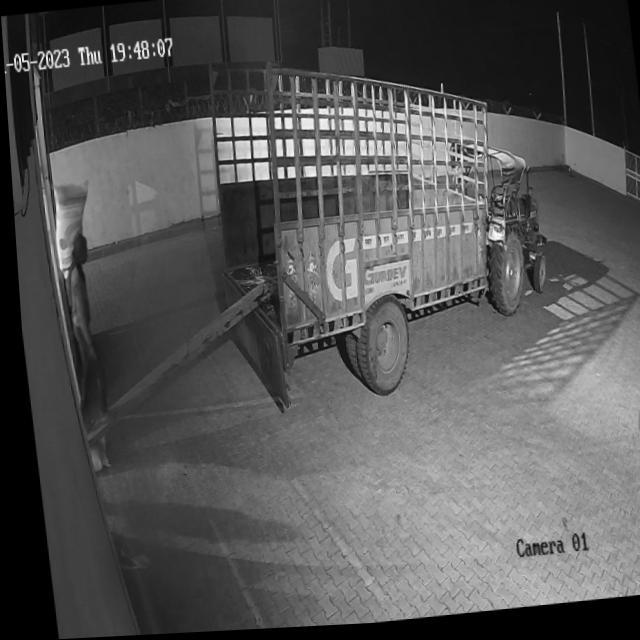sack: (45, 180, 96, 281)
